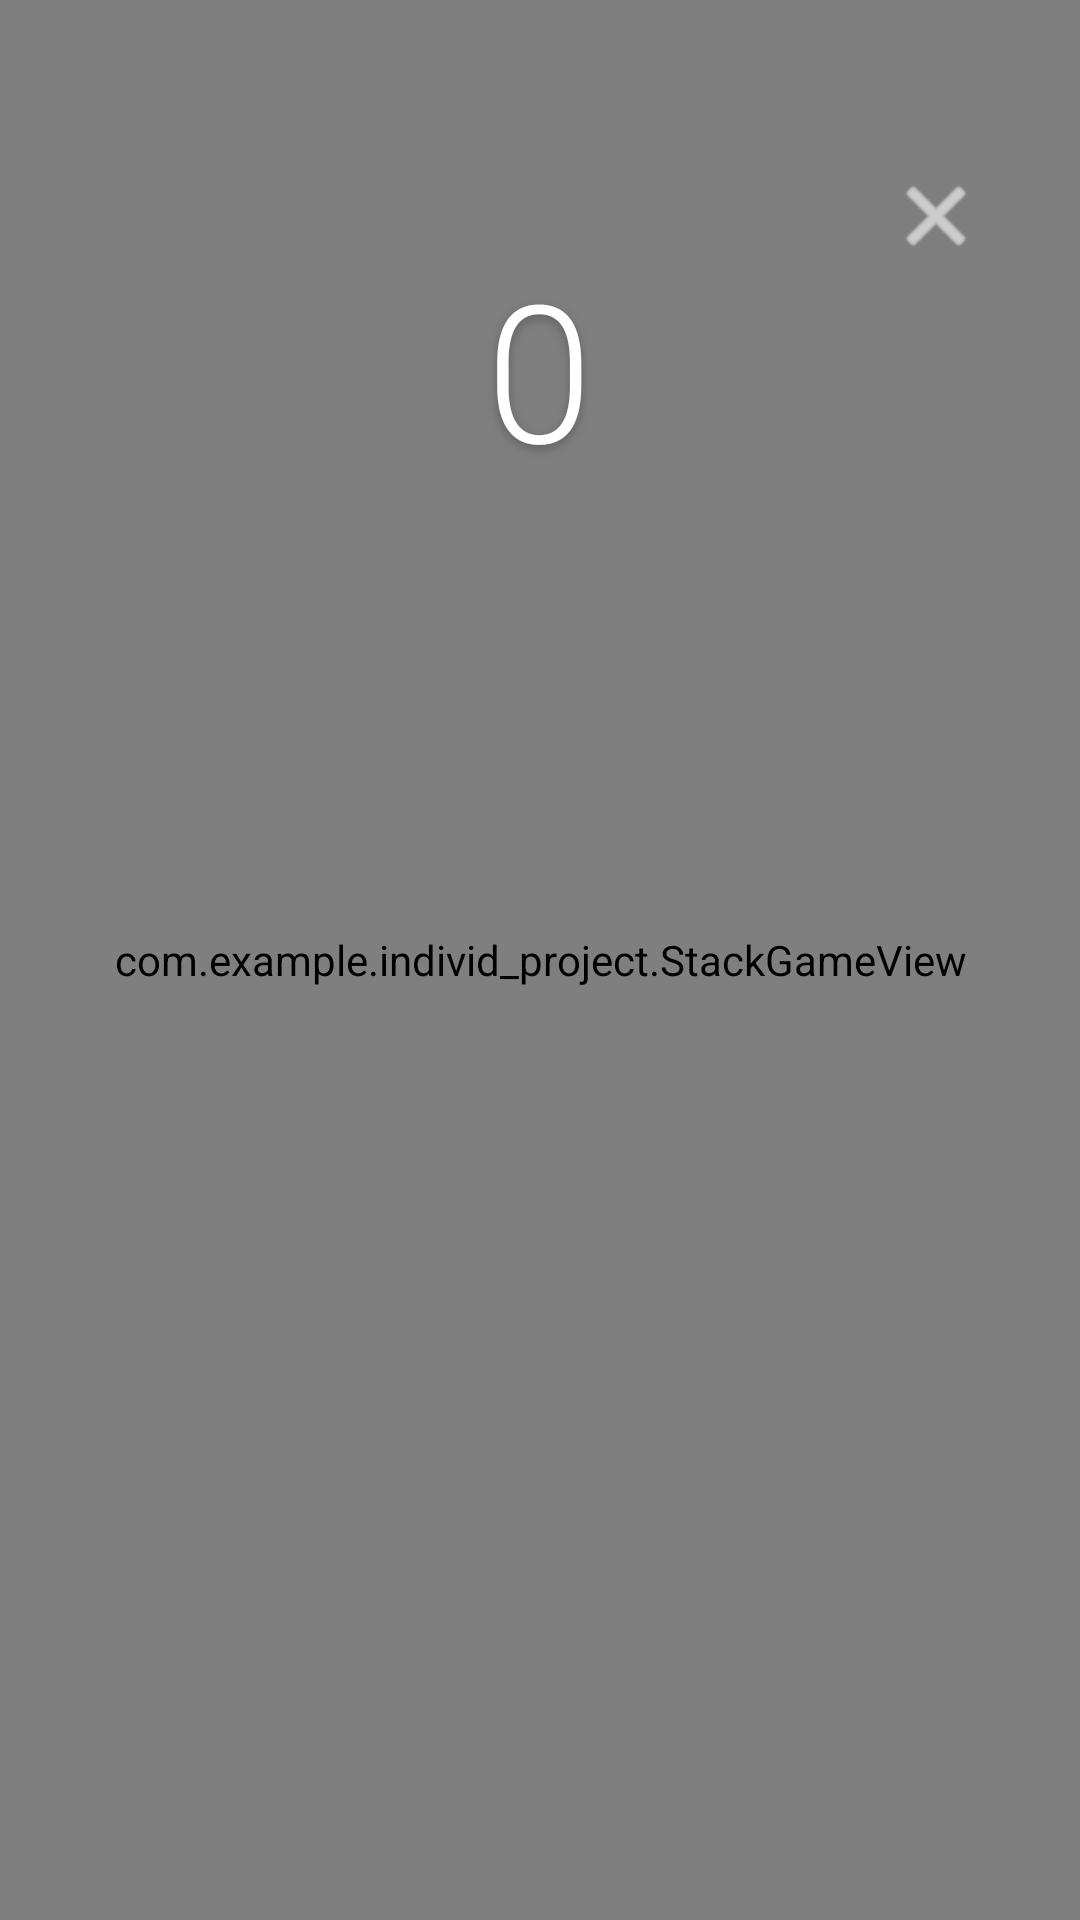

Icons on this 1080px x 1920px Android screen, each with the point to tap as point (x, y):
close clear cancel: point (936, 216)
